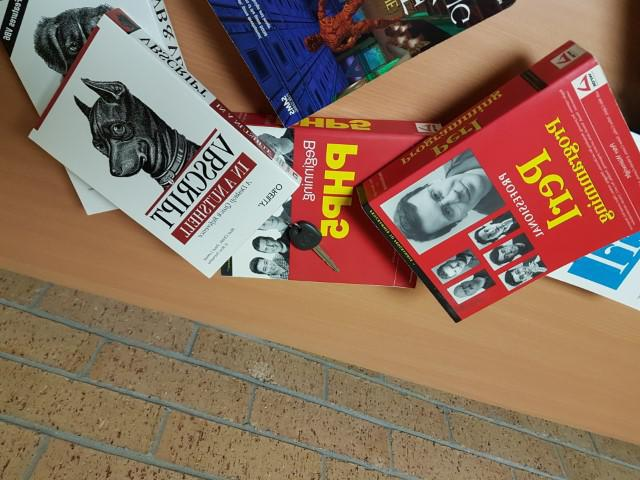key: (289, 222, 340, 272)
